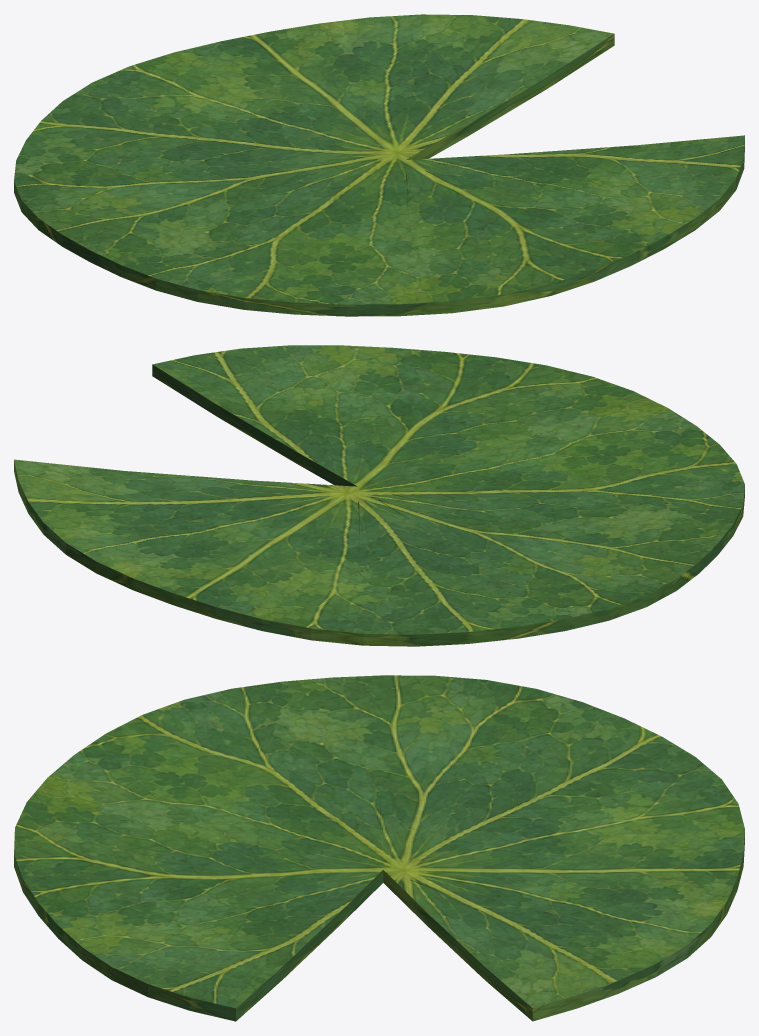
The model's file is SM_WaterLily_B.fbx.
The picture shows the model from 3 angles, top to bottom: view 1: azimuth 30°, elevation 25°; view 2: azimuth 150°, elevation 25°; view 3: azimuth 270°, elevation 25°; orthographic projection. The views are drawn at different scales.
Visible parts, largest first — view 1: SM_WaterLily_B; view 2: SM_WaterLily_B; view 3: SM_WaterLily_B.
Part boxes in pixels (<box>): SM_WaterLily_B: <box>14,14,744,316</box>; SM_WaterLily_B: <box>14,345,744,646</box>; SM_WaterLily_B: <box>14,675,744,1021</box>.
Size of the model in its own units: 0.38 by 0.352 by 0.0125.
1 material, 1 textured.
